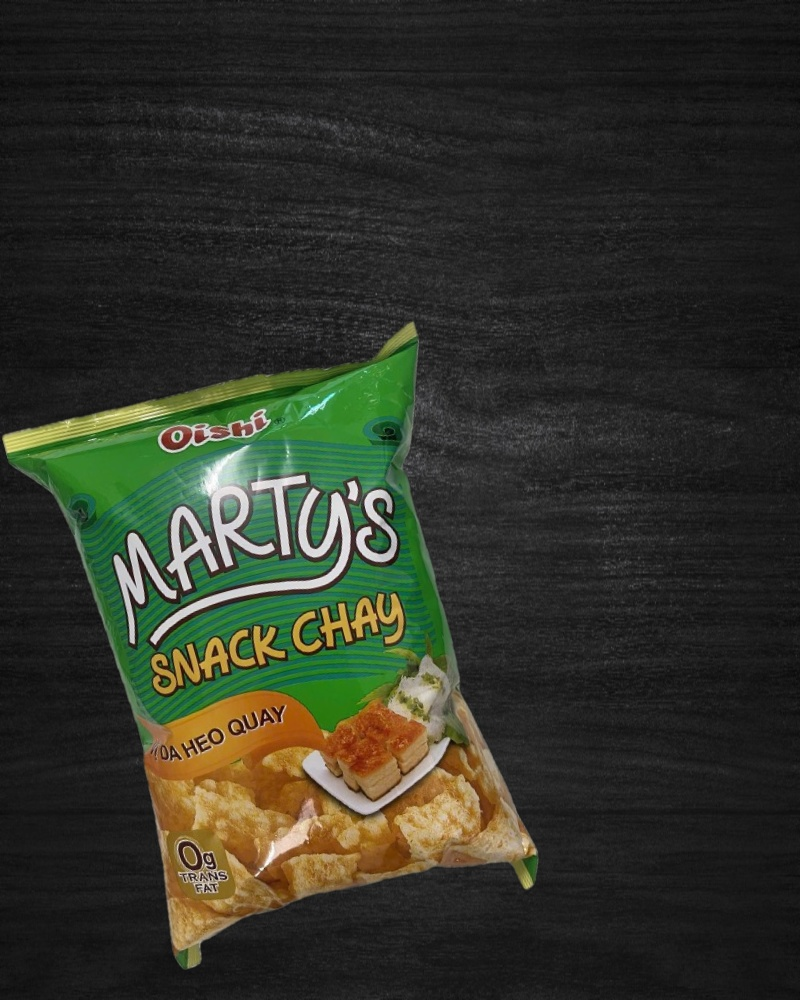Snack chay: (1, 320, 565, 991)
